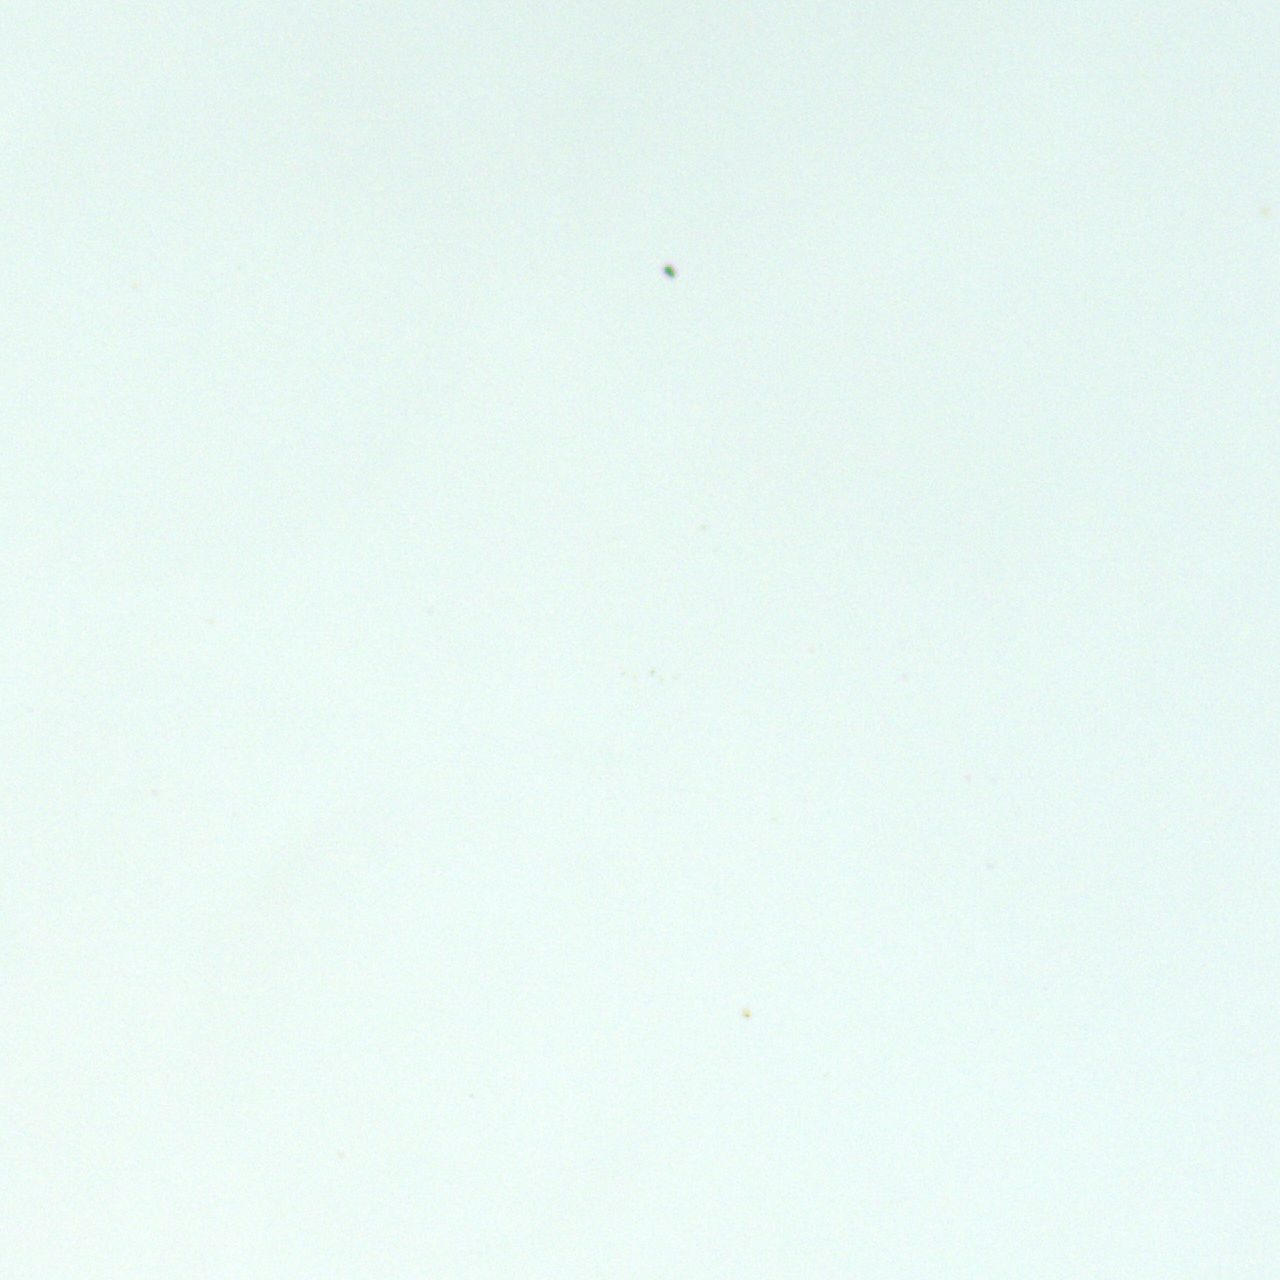dust: (662, 265, 675, 277)
